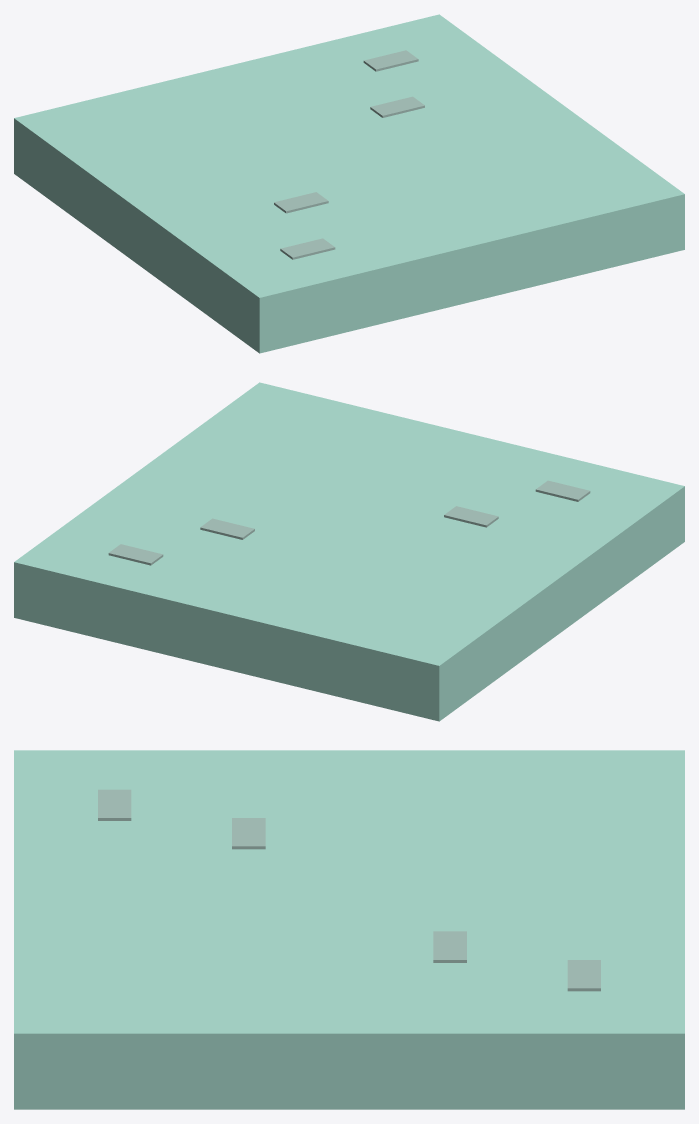
File: ground.glb
3 views of the same model, one above another, from view 1: azimuth 30°, elevation 25°; view 2: azimuth 150°, elevation 25°; view 3: azimuth 270°, elevation 25° (orthographic). The views are drawn at different scales.
Parts seen in each view (by area): view 1: ground, ground_tile_001, ground_tile_004, ground_tile_003, ground_tile_002; view 2: ground, ground_tile_004, ground_tile_002, ground_tile_001, ground_tile_003; view 3: ground, ground_tile_002, ground_tile_003, ground_tile_001, ground_tile_004.
Part boxes in pixels (box(x1,y1,x2,y2)): ground: box(14, 14, 684, 353); ground_tile_001: box(363, 50, 418, 71); ground_tile_004: box(280, 238, 335, 259); ground_tile_003: box(274, 192, 328, 213); ground_tile_002: box(370, 96, 424, 117); ground: box(14, 382, 684, 721); ground_tile_004: box(535, 480, 590, 501); ground_tile_002: box(200, 518, 254, 539); ground_tile_001: box(108, 544, 163, 565); ground_tile_003: box(444, 506, 498, 527); ground: box(14, 750, 684, 1109); ground_tile_002: box(433, 931, 466, 962); ground_tile_003: box(232, 818, 265, 849); ground_tile_001: box(567, 960, 600, 991); ground_tile_004: box(98, 789, 131, 820).
Bounding box in the file's own units: 2 × 0.26 × 2.
